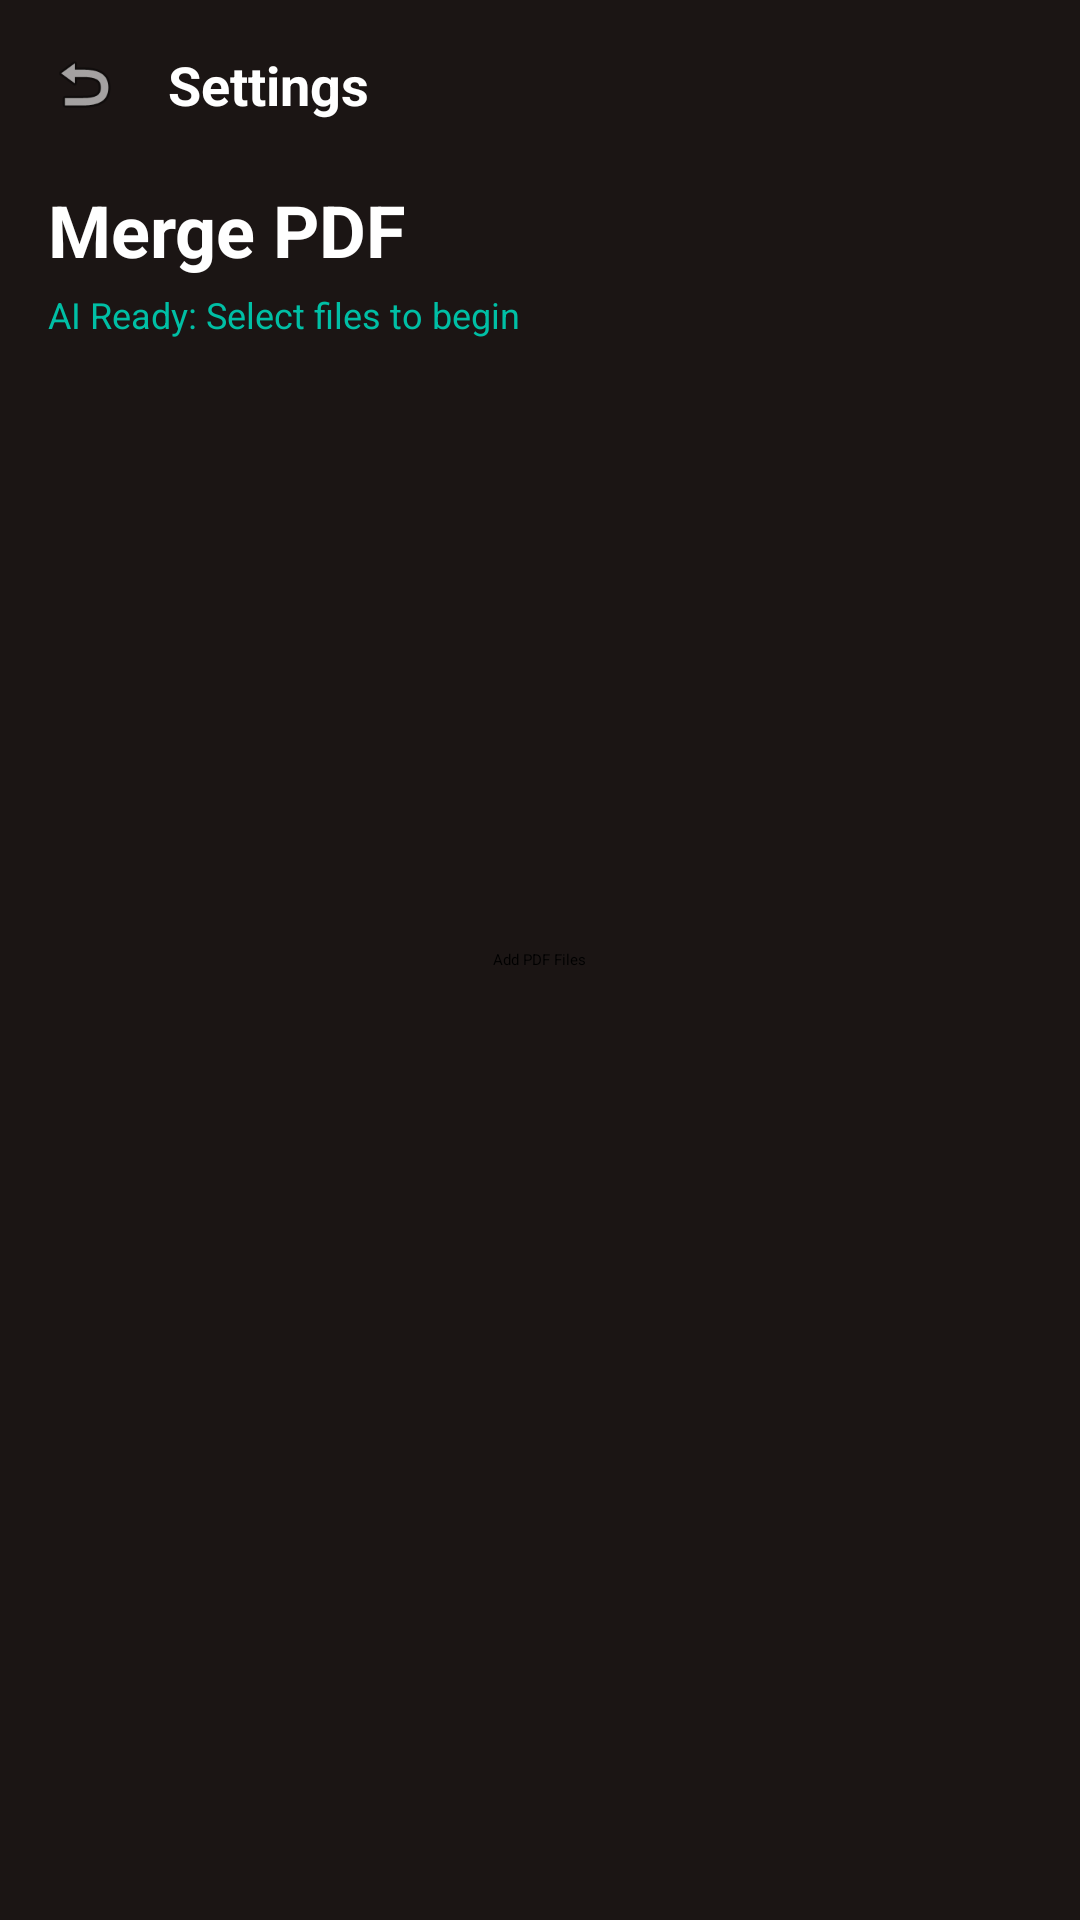

Locate icon controls on the screen. Image size 1080w x 1920h, boxes as (x1, y1, x2, y2).
revert: (61, 63, 109, 106)
